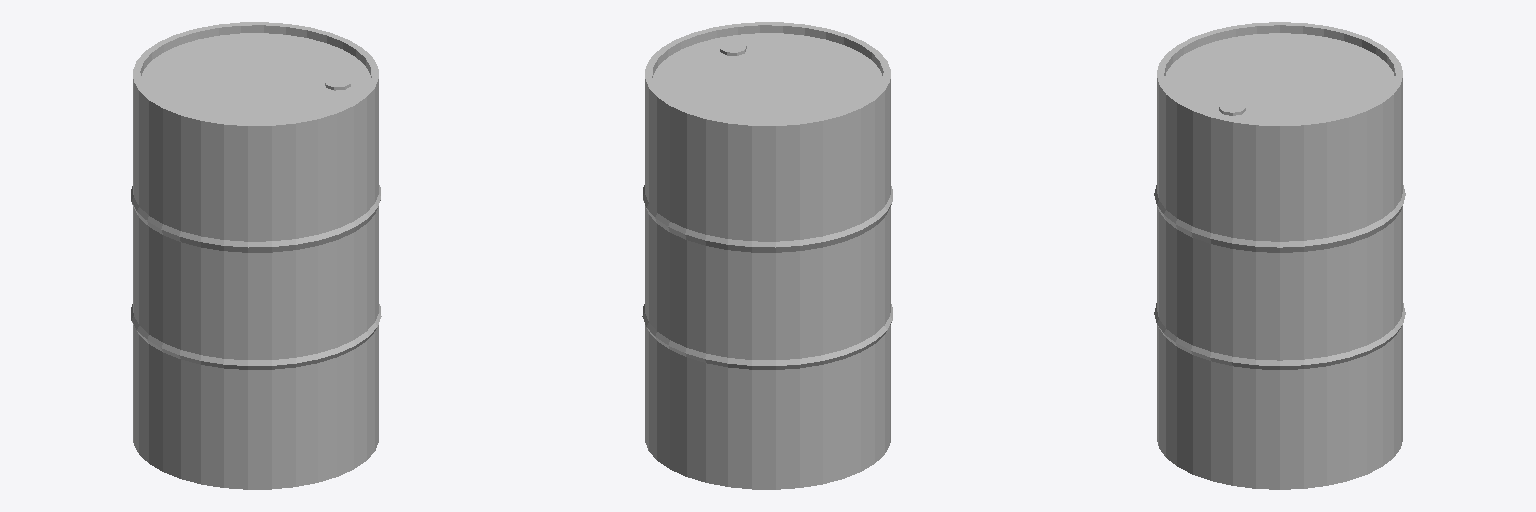
Rendered from Radioactive barrel.obj.
3 renders of one model, left to right at view 1: azimuth 30°, elevation 25°; view 2: azimuth 150°, elevation 25°; view 3: azimuth 270°, elevation 25°, orthographic.
Parts seen in each view (by area): view 1: Cylinder_Cylinder.001; view 2: Cylinder_Cylinder.001; view 3: Cylinder_Cylinder.001.
Boxes of the visible parts, x1,y1,x2,y2 form: Cylinder_Cylinder.001: [131, 22, 381, 489]; Cylinder_Cylinder.001: [642, 22, 892, 489]; Cylinder_Cylinder.001: [1154, 22, 1405, 489].
Size of the model in its own units: 7.32 by 11.66 by 7.32.